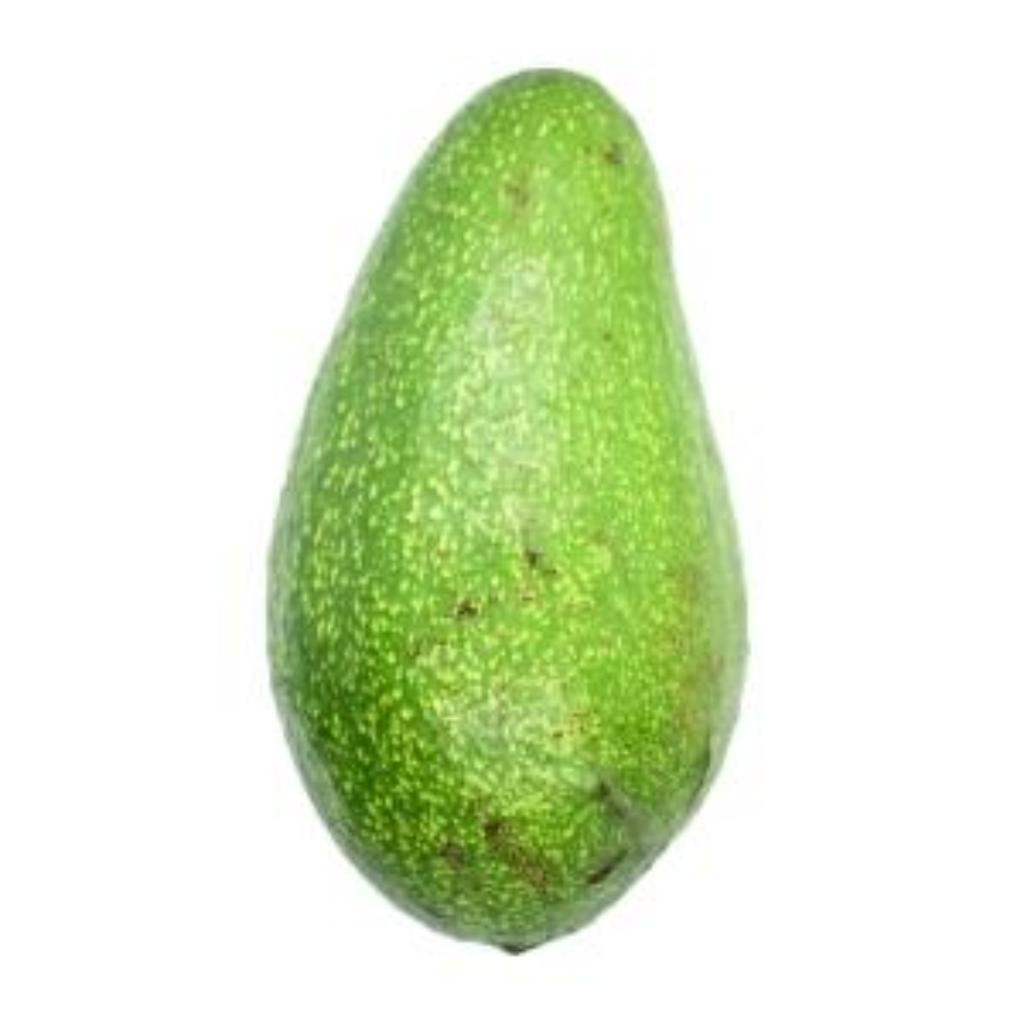cercospora: (252, 70, 761, 968)
